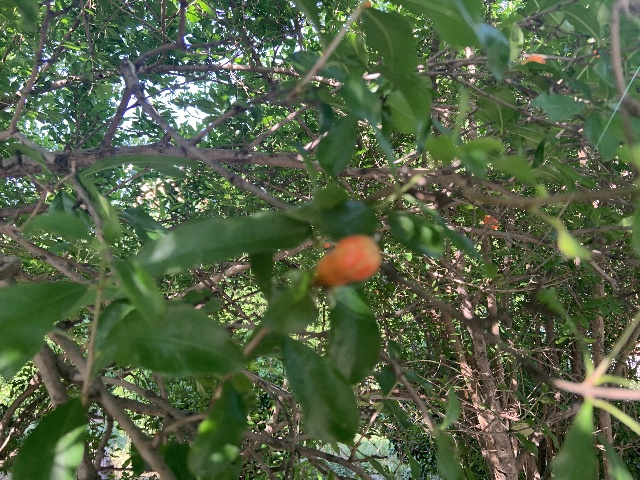bud: (313, 235, 381, 286)
flower: (481, 215, 499, 228)
